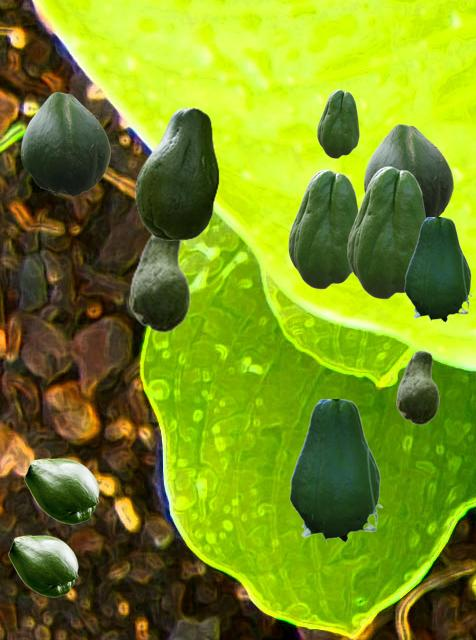sayote: (289, 399, 382, 544), (135, 107, 218, 239), (347, 166, 426, 298), (21, 92, 109, 196), (288, 169, 358, 288), (364, 124, 452, 216), (404, 217, 472, 323), (129, 232, 189, 332), (24, 458, 98, 523), (8, 535, 77, 596), (396, 350, 438, 424), (317, 89, 358, 157)
